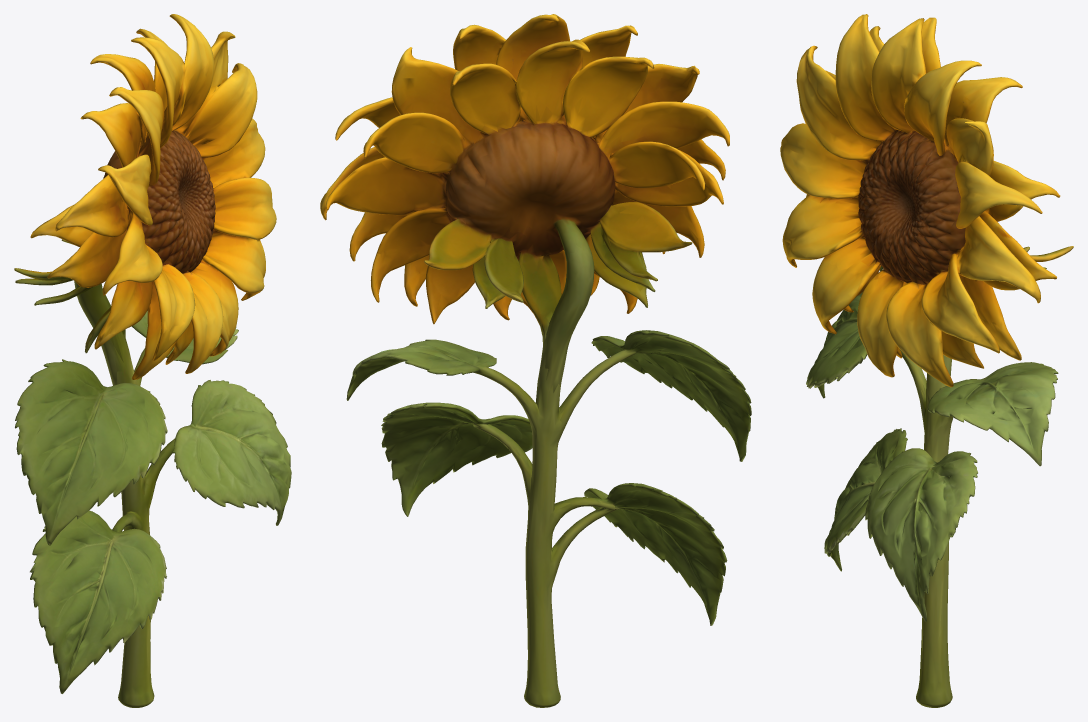
Rendered from sunflower-maturity.glb.
3 views of the same model, side by side, from view 1: azimuth 30°, elevation 25°; view 2: azimuth 150°, elevation 25°; view 3: azimuth 270°, elevation 25° (orthographic).
Visible parts, largest first — view 1: Bloom, Leaf0, Leaf1, Leaf2, Stalk, Leaf3; view 2: Bloom, Stalk, Leaf2, Leaf1, Leaf0, Leaf3; view 3: Bloom, Leaf2, Leaf3, Stalk, Leaf1, Leaf0.
Part boxes in pixels (<box>): Bloom: <box>14,14,276,385</box>; Leaf0: <box>15,359,167,545</box>; Leaf1: <box>30,510,166,693</box>; Leaf2: <box>160,380,291,525</box>; Stalk: <box>112,329,164,707</box>; Leaf3: <box>132,311,238,377</box>; Bloom: <box>320,14,729,392</box>; Stalk: <box>511,252,571,707</box>; Leaf2: <box>381,402,532,516</box>; Leaf1: <box>558,483,727,625</box>; Leaf0: <box>560,330,751,461</box>; Leaf3: <box>346,339,527,405</box>; Bloom: <box>780,14,1073,387</box>; Leaf2: <box>865,448,977,621</box>; Leaf3: <box>927,362,1058,466</box>; Stalk: <box>916,355,953,707</box>; Leaf1: <box>824,428,907,571</box>; Leaf0: <box>806,269,926,402</box>.
Bounding box in the file's own units: 0.8199 × 1.6 × 0.6242.
Materials: 1 (1 with a texture image).
